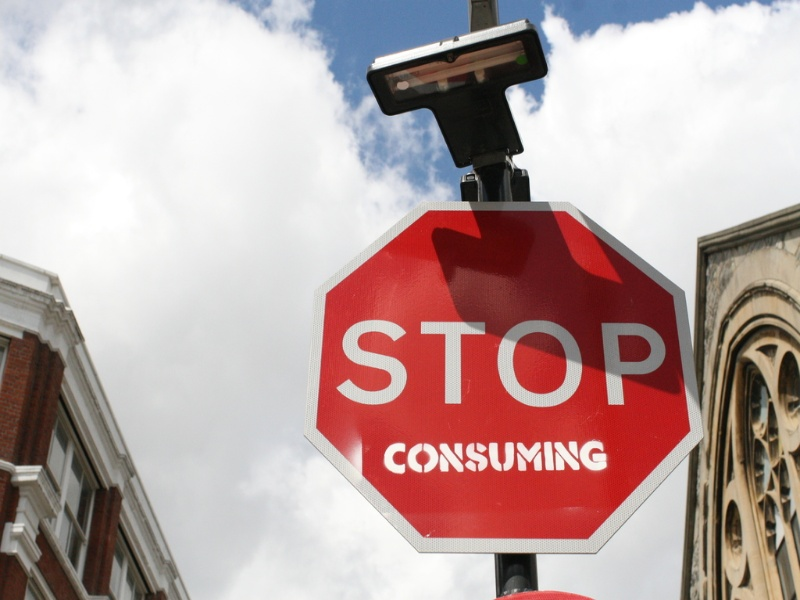stop_consuming: (313, 211, 701, 552)
